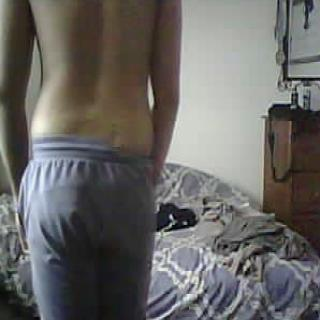Blue Sweatpants: (19, 131, 157, 320)
